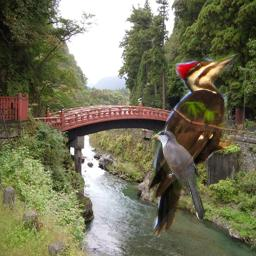Cuckoo: (149, 129, 208, 222)
Woodpecker: (146, 50, 245, 237)
